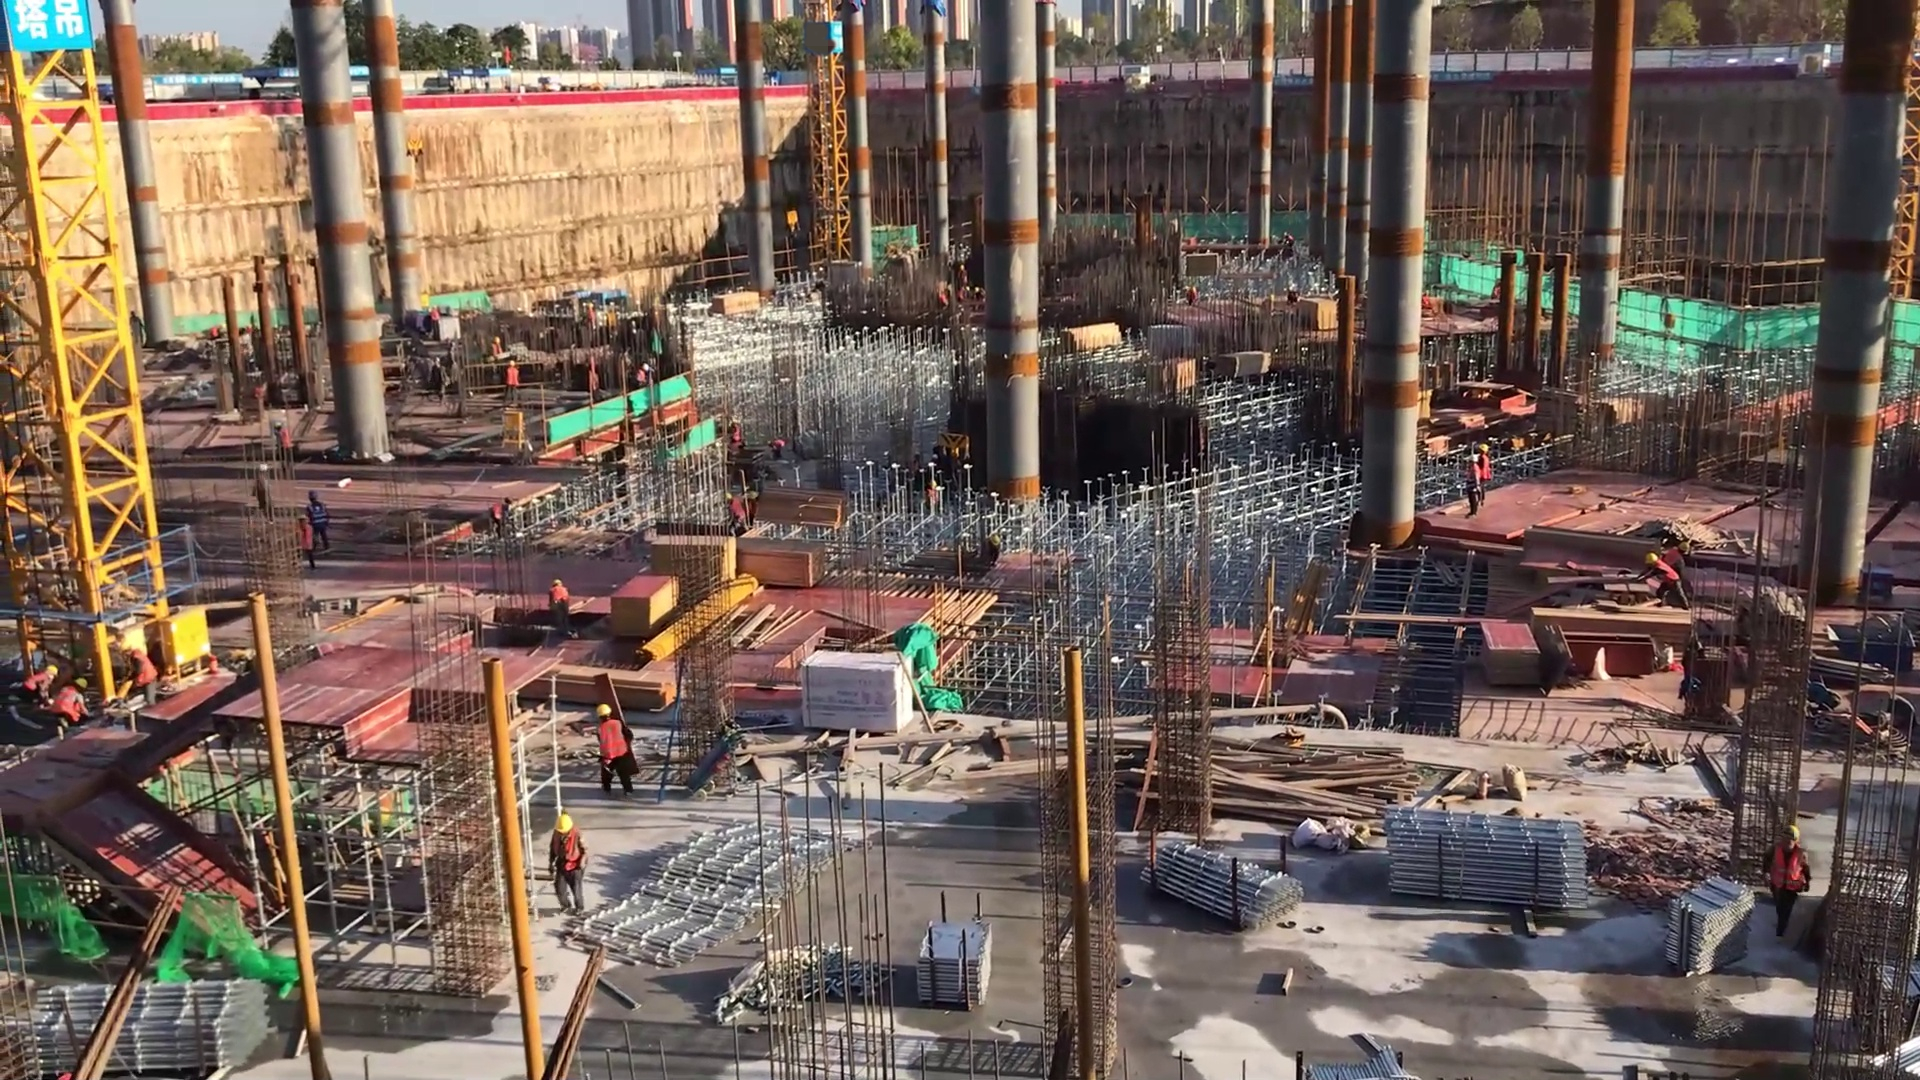helmet: (597, 700, 619, 725), (1782, 824, 1801, 850), (68, 674, 91, 696), (554, 816, 576, 835), (1675, 540, 1691, 556), (118, 643, 136, 657), (304, 489, 322, 503), (46, 662, 57, 682), (1645, 550, 1658, 566), (989, 532, 1002, 545), (723, 490, 733, 506), (552, 578, 565, 591), (748, 489, 759, 503), (1467, 456, 1481, 466), (507, 359, 517, 371), (1479, 444, 1488, 457), (642, 364, 650, 374), (493, 336, 500, 344)
person: (1765, 821, 1813, 929), (588, 701, 638, 795), (549, 813, 589, 912), (112, 642, 159, 709), (1640, 549, 1692, 608), (45, 676, 94, 725), (302, 491, 333, 554), (22, 655, 56, 713), (1656, 537, 1697, 582), (1302, 294, 1343, 333), (548, 578, 573, 641), (1462, 454, 1483, 520), (487, 490, 519, 533), (272, 417, 295, 469), (294, 512, 315, 571), (722, 490, 747, 539), (1475, 443, 1494, 505), (503, 359, 522, 408), (764, 436, 788, 462), (636, 359, 651, 394), (728, 415, 743, 453), (490, 334, 506, 365)
vest: (1766, 839, 1810, 904), (592, 722, 636, 770), (552, 834, 585, 878), (57, 685, 85, 724), (1652, 561, 1679, 586), (309, 502, 330, 530), (276, 427, 297, 451)
